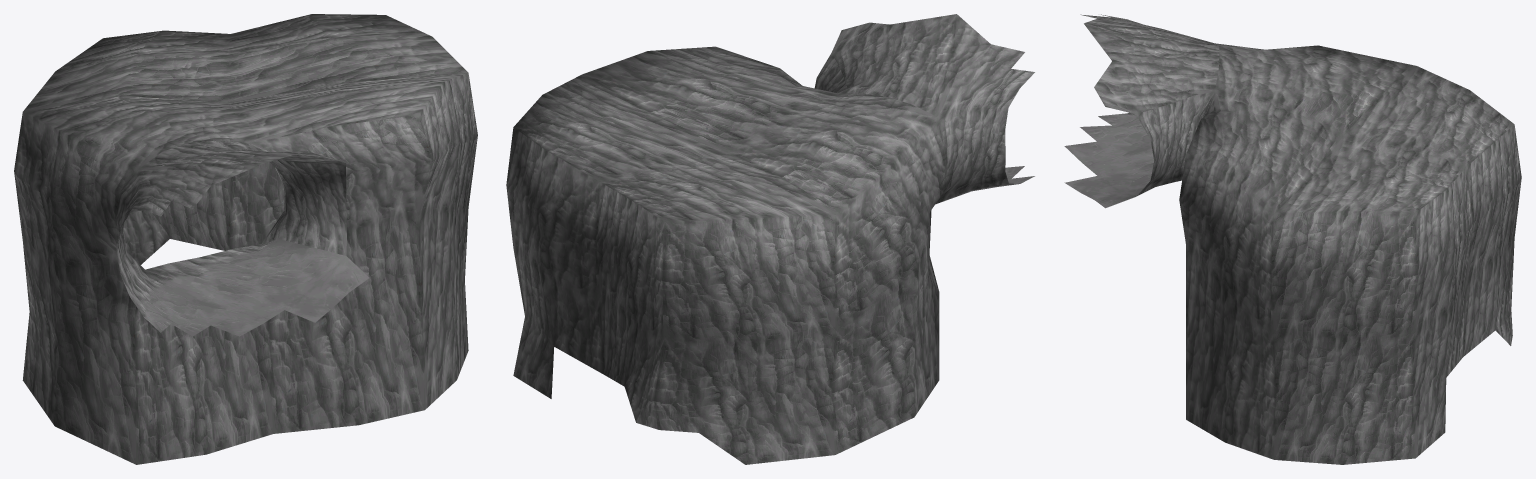
Rendered from SWORDLIGHT20_PS-AREA02-03TRANS_01.fbx.
The picture shows the model from 3 angles, left to right: view 1: azimuth 30°, elevation 25°; view 2: azimuth 150°, elevation 25°; view 3: azimuth 270°, elevation 25°; orthographic projection. The views are drawn at different scales.
Parts seen in each view (by area): view 1: SWORDLIGHT20_PS-AREA02-03TRANS_01; view 2: SWORDLIGHT20_PS-AREA02-03TRANS_01; view 3: SWORDLIGHT20_PS-AREA02-03TRANS_01.
Boxes of the visible parts, x1,y1,x2,y2 form: SWORDLIGHT20_PS-AREA02-03TRANS_01: (14,14,477,464); SWORDLIGHT20_PS-AREA02-03TRANS_01: (506,14,1034,464); SWORDLIGHT20_PS-AREA02-03TRANS_01: (1064,14,1521,464).
Bounding box in the file's own units: 231611 × 178338 × 243121.
Materials: 3 (3 with a texture image).
